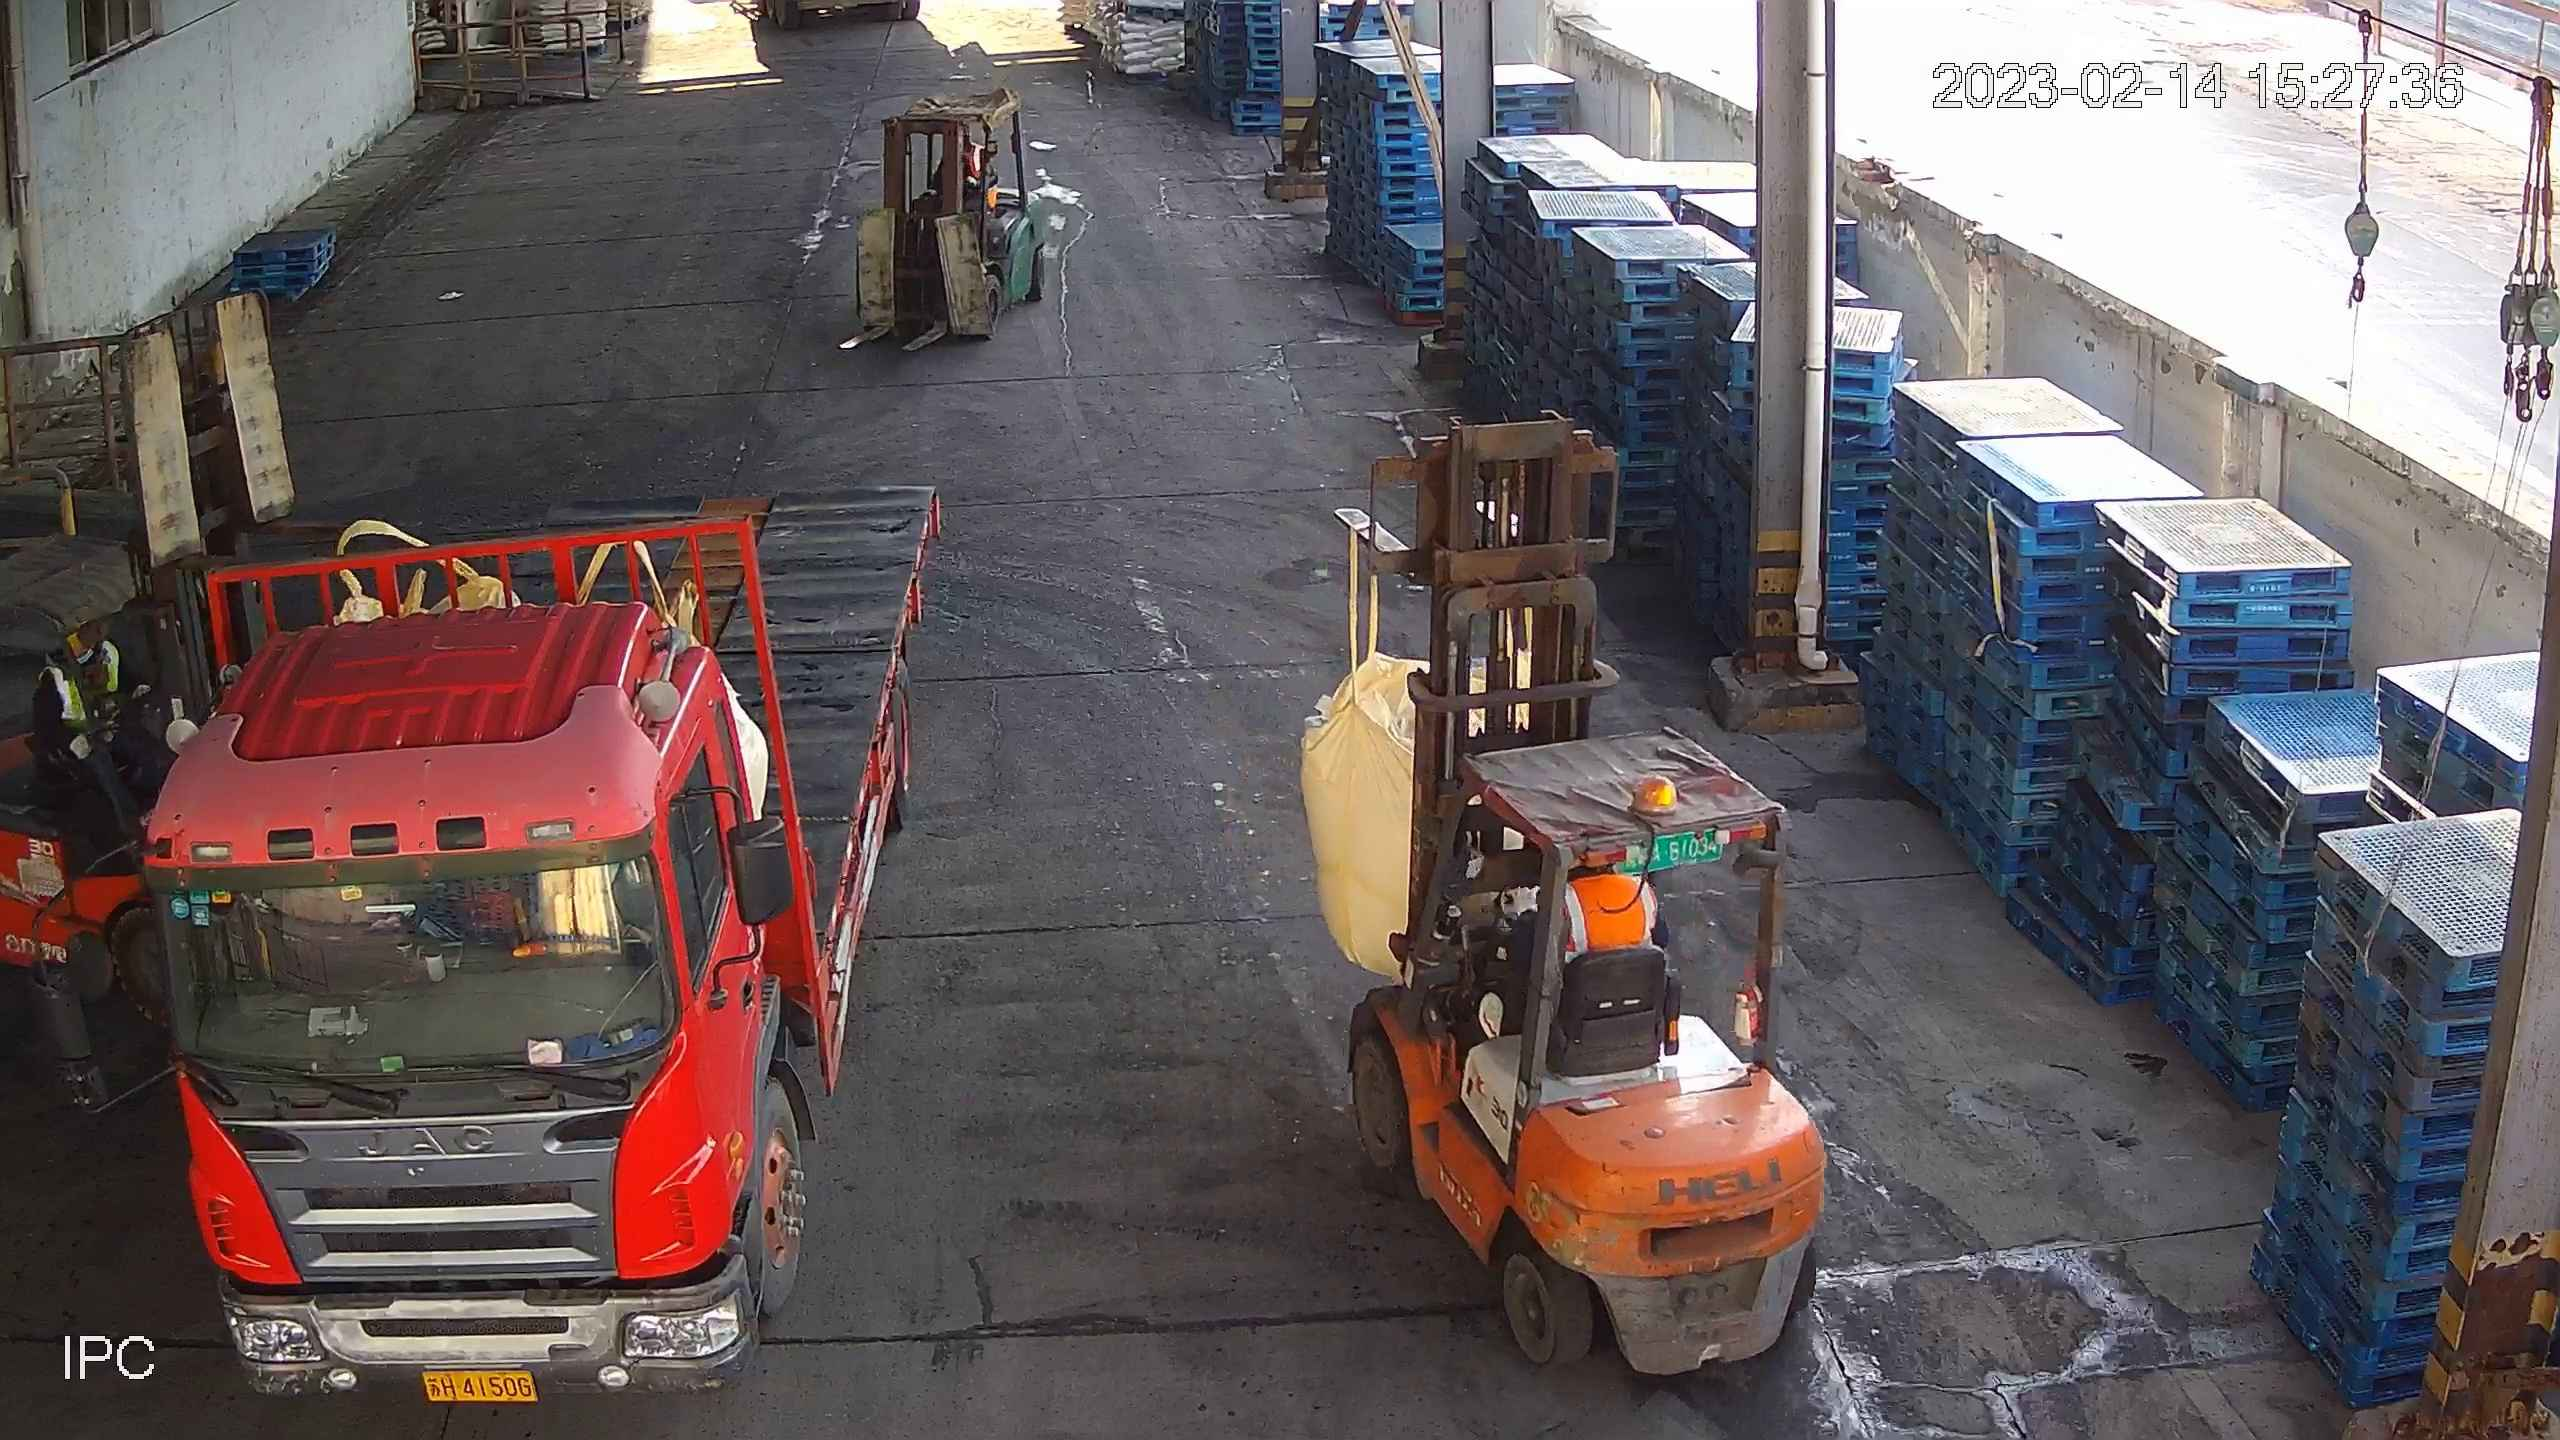truck: (128, 476, 949, 1394)
